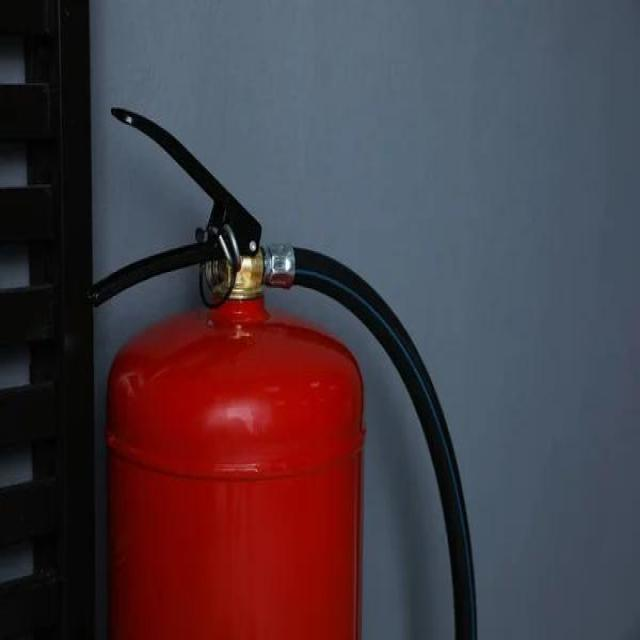fire_extinguisher: (79, 96, 482, 638)
